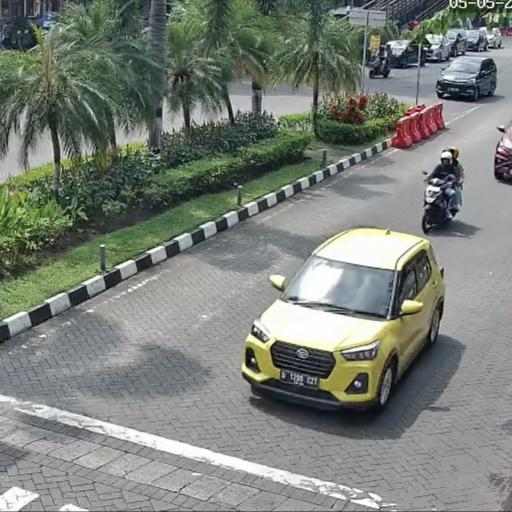mobil: (244, 223, 448, 421), (430, 52, 501, 104)
motor: (420, 166, 467, 236)
